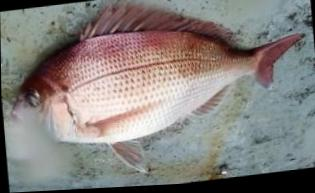fish: (10, 4, 302, 173)
